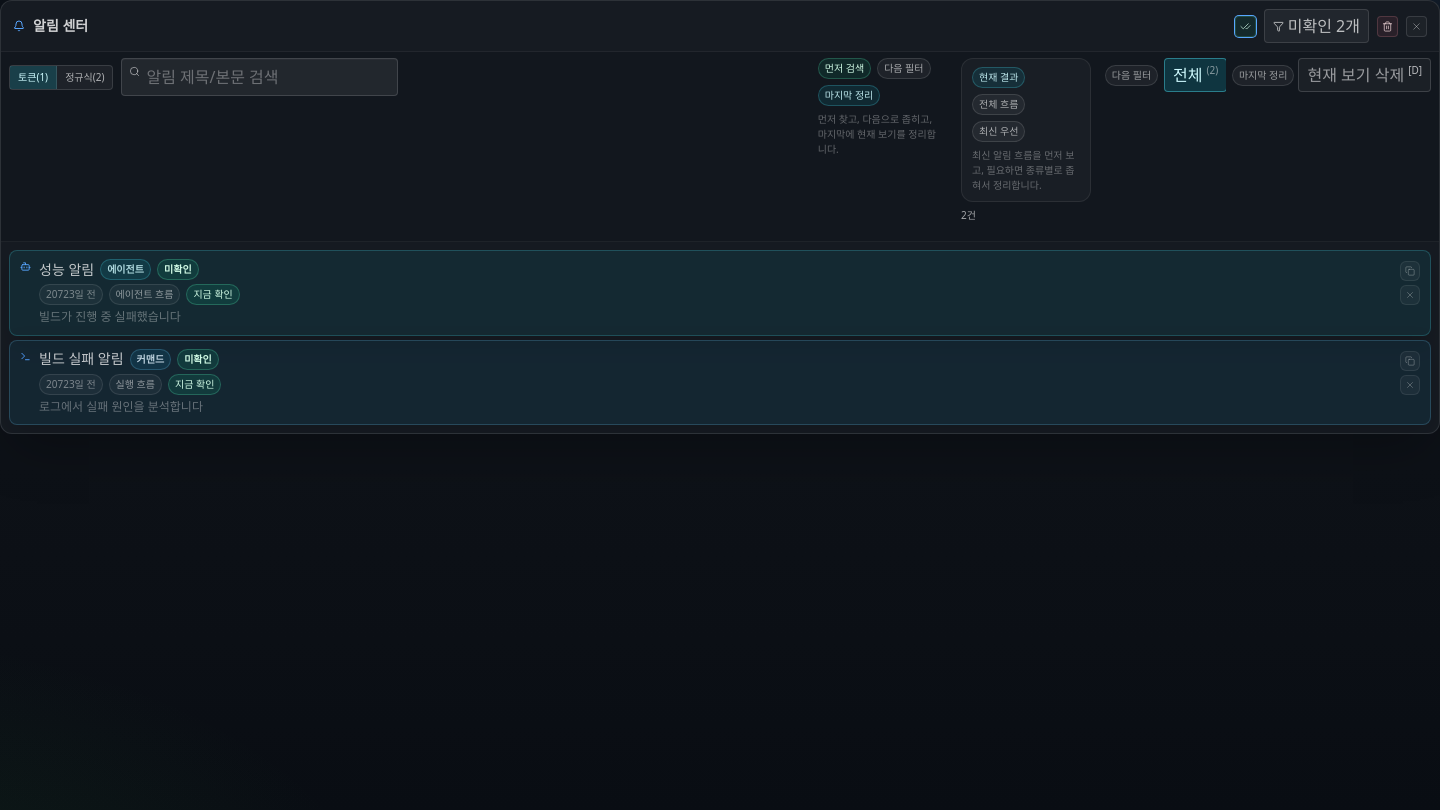
Test case: NotificationCenter › 따옴표로 묶인 검색어를 구문 단위로 처리한다
Type "\"빌드 실패\"" into the field named "알림 검색" at (260, 77), box left=122, top=58, right=398, bottom=96
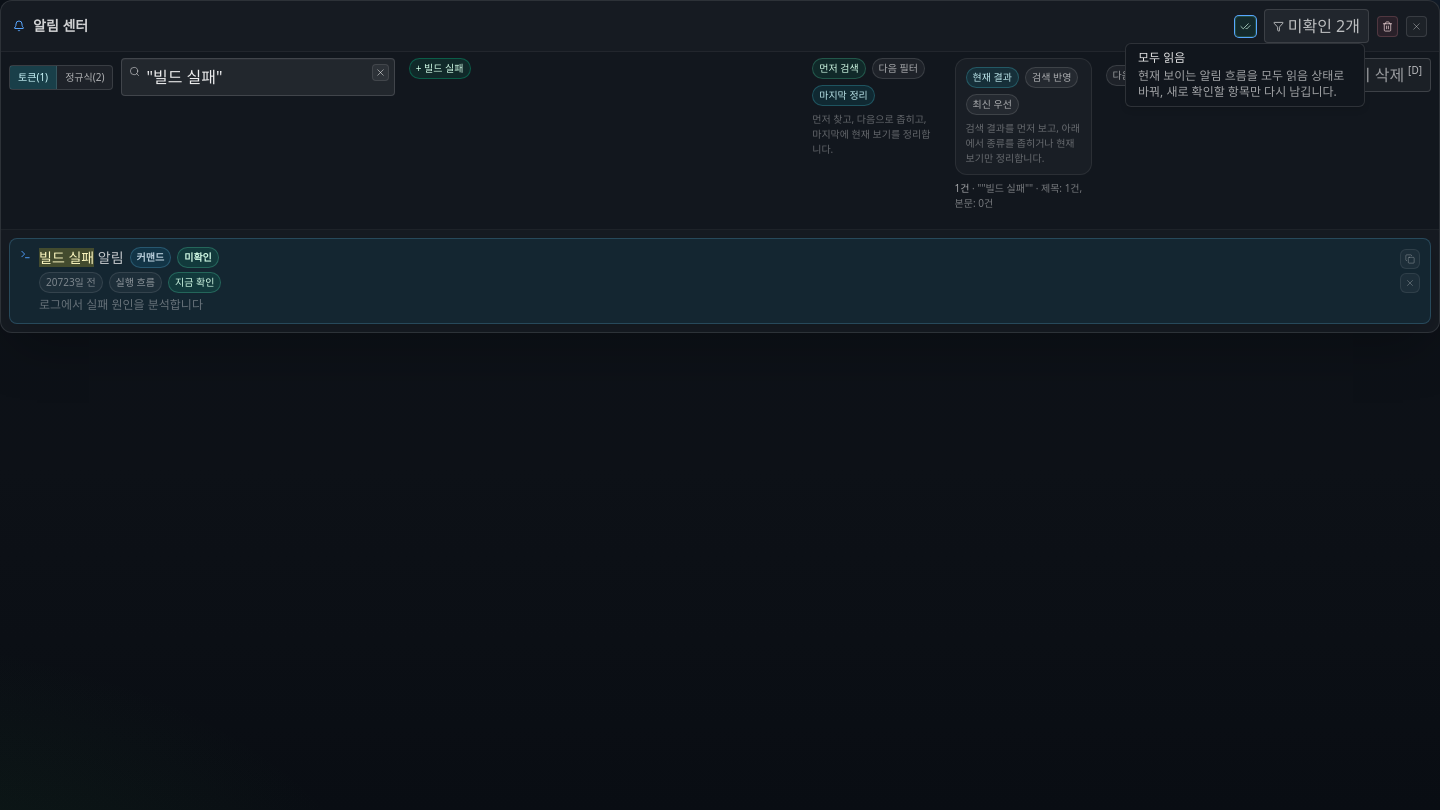
Expected: the message "빌드 실패 알림 커맨드 미확인 20723일 전 실행 흐름 지금 확인 로그에서 실패 원인을 분석합니다" is shown, left=9, top=238, right=1431, bottom=324
Expected: the text "1건 · \"\"빌드 실패\"\" · 제목: 1건, 본문: 0건" is shown, left=954, top=175, right=1092, bottom=217
